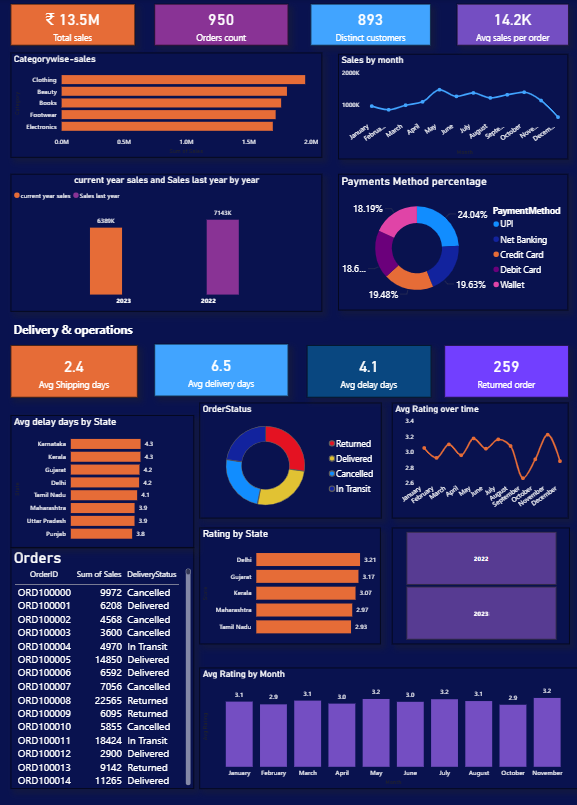

Layout of this report page (visuals, bound fields, positions):
{"tool":"powerbi","page":{"name":"Page 1","canvas":[1078,1500],"ordinal":0},"visuals":[{"type":"clusteredColumnChart","fields":{"Y":["Calendar.current year sales","Calendar.Sales last year"],"Category":["Calendar.year"]},"box":[25.5,324.7,577.5,255.1],"z":0},{"type":"card","fields":{"Values":["Calendar.Total sales"]},"box":[25.6,10.2,230.1,76.7],"z":1000},{"type":"card","fields":{"Values":["PRJ2.Orders count"]},"box":[291.4,10.2,248,76.7],"z":2000},{"type":"card","fields":{"Values":["PRJ2.Distinct customers"]},"box":[582.8,10.2,222.4,76.7],"z":3000},{"type":"clusteredBarChart","title":" Categorywise-sales","fields":{"Category":["PRJ2.Category"],"Y":["Sum(PRJ2.Sales)"]},"box":[25.6,99.7,577.7,194.3],"z":4000},{"type":"lineChart","title":" Sales by month","fields":{"Y":["Sum(PRJ2.Sales)"],"Category":["Calendar.Date.Variation.Date Hierarchy.Month"]},"box":[633.1,102,426.7,194.8],"z":5000},{"type":"card","fields":{"Values":["Calendar.Shipping days"]},"box":[25.6,641.6,235.2,97.1],"z":6000},{"type":"textbox","box":[25.2,593.9,235.7,46.8],"z":7000},{"type":"card","fields":{"Values":["PRJ2.Avg delivey days"]},"box":[291.4,639.1,248,97.1],"z":8000},{"type":"card","fields":{"Values":["Calendar.Returned orderd"]},"box":[830.8,641.6,230.1,97.1],"z":9000},{"type":"donutChart","title":"OrderStatus","fields":{"Category":["PRJ2.DeliveryStatus"],"Y":["CountNonNull(PRJ2.DeliveryStatus)"]},"box":[375.8,749,337.4,214.7],"z":10000},{"type":"tableEx","title":"Orders","fields":{"Values":["PRJ2.OrderID","Sum(PRJ2.Sales)","PRJ2.DeliveryStatus"]},"box":[25.6,1017.4,340,447.3],"z":11000},{"type":"clusteredBarChart","title":" Rating by State","fields":{"Category":["PRJ2.State"],"Y":["Avg(PRJ2.Rating)"]},"box":[375.7,981,336.3,215.7],"z":12000},{"type":"clusteredBarChart","fields":{"Category":["PRJ2.State"],"Y":["PRJ2.Avg delay days"]},"box":[25.6,772,340,245.4],"z":13000},{"type":"clusteredColumnChart","fields":{"Y":["PRJ2.Avg Rating"],"Category":["Calendar.Date.Variation.Date Hierarchy.Month"]},"box":[375.7,1240.7,702.7,225],"z":14000},{"type":"lineChart","title":"Avg Rating over time","fields":{"Y":["PRJ2.Avg Rating"],"Category":["Calendar.Date.Variation.Date Hierarchy.Month"]},"box":[733.6,749,327.2,214.7],"z":15000},{"type":"donutChart","title":" Payments Method percentage","fields":{"Category":["PRJ2.PaymentMethod"],"Y":["Calendar.Total sales"]},"box":[633.1,324.7,426.7,252.8],"z":16000},{"type":"card","fields":{"Values":["PRJ2.Avg sales per order"]},"box":[853.8,10.2,207.1,76.7],"z":17000},{"type":"card","fields":{"Values":["PRJ2.Avg delay days"]},"box":[575.2,641.6,230.1,97.1],"z":18000},{"type":"slicer","fields":{"Values":["Calendar.year"]},"box":[732.8,981,329.3,215.7],"z":18001}]}

Visuals, with their boxes in screenshot pixels (x1, y1, x2, y2), scaled from the page's 1078x1500 canvas onto the 577x805 screenshot:
clusteredColumnChart - Calendar.current year sales x Calendar.Sales last year: region(14, 174, 323, 311)
card - Calendar.Total sales: region(14, 5, 137, 47)
card - PRJ2.Orders count: region(156, 5, 289, 47)
card - PRJ2.Distinct customers: region(312, 5, 431, 47)
" Categorywise-sales" clusteredBarChart: region(14, 54, 323, 158)
" Sales by month" lineChart: region(339, 55, 567, 159)
card - Calendar.Shipping days: region(14, 344, 140, 396)
textbox: region(13, 319, 140, 344)
card - PRJ2.Avg delivey days: region(156, 343, 289, 395)
card - Calendar.Returned orderd: region(445, 344, 568, 396)
"OrderStatus" donutChart: region(201, 402, 382, 517)
"Orders" tableEx: region(14, 546, 196, 786)
" Rating by State" clusteredBarChart: region(201, 526, 381, 642)
clusteredBarChart - PRJ2.State x PRJ2.Avg delay days: region(14, 414, 196, 546)
clusteredColumnChart - PRJ2.Avg Rating x Calendar.Date.Variation.Date Hierarchy.Month: region(201, 666, 576, 787)
"Avg Rating over time" lineChart: region(393, 402, 568, 517)
" Payments Method percentage" donutChart: region(339, 174, 567, 310)
card - PRJ2.Avg sales per order: region(457, 5, 568, 47)
card - PRJ2.Avg delay days: region(308, 344, 431, 396)
slicer - Calendar.year: region(392, 526, 568, 642)
